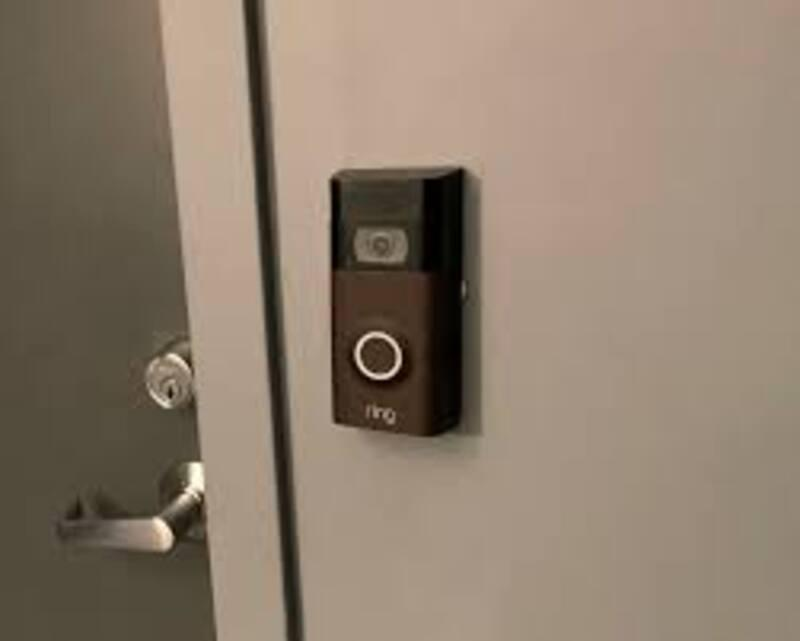doorbell: (314, 152, 494, 456)
